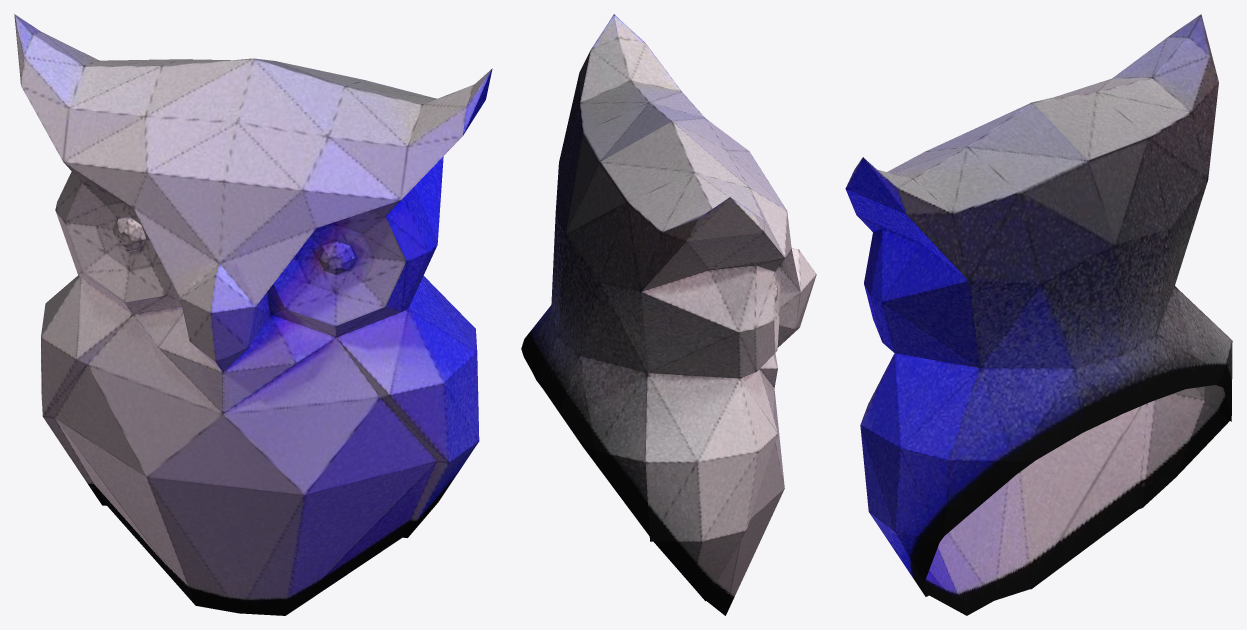
File: owl.glb
The picture shows the model from 3 angles, left to right: view 1: azimuth 30°, elevation 25°; view 2: azimuth 150°, elevation 25°; view 3: azimuth 270°, elevation 25°; orthographic projection. The views are drawn at different scales.
Parts seen in each view (by area): view 1: owl; view 2: owl; view 3: owl.
Part boxes in pixels (x1=…): owl: x1=14, y1=14, x2=492, y2=615; owl: x1=521, y1=14, x2=816, y2=615; owl: x1=845, y1=14, x2=1232, y2=615.
Bounding box in the file's own units: 3.21 × 4.86 × 3.21.
1 material, 1 textured.
